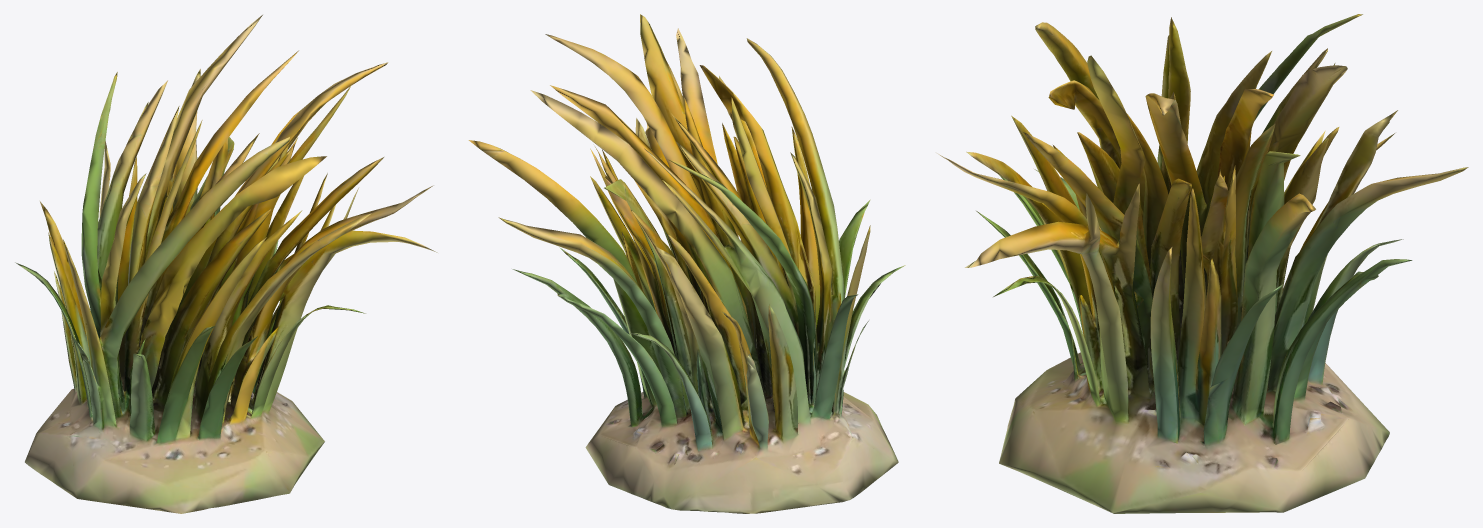
The model's file is grass_clump.glb.
The picture shows the model from 3 angles, left to right: view 1: azimuth 30°, elevation 25°; view 2: azimuth 150°, elevation 25°; view 3: azimuth 270°, elevation 25°; orthographic projection. The views are drawn at different scales.
Visible parts, largest first — view 1: Mesh1.0; view 2: Mesh1.0; view 3: Mesh1.0.
Boxes of the visible parts, bbox=[...] form: Mesh1.0: bbox=[15, 15, 437, 513]; Mesh1.0: bbox=[468, 14, 905, 513]; Mesh1.0: bbox=[937, 14, 1468, 513].
Bounding box in the file's own units: 1.88 × 1.81 × 1.86.
1 material, 1 textured.
